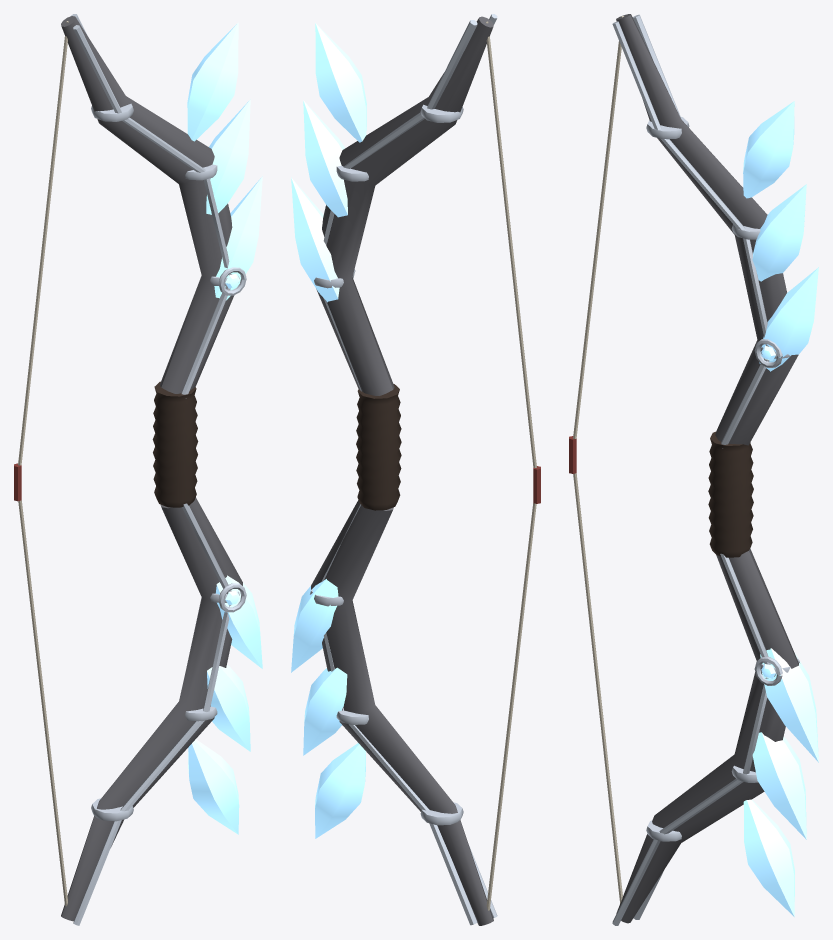
The model's file is artisan_crystal_spire_bow.glb.
The picture shows the model from 3 angles, left to right: view 1: azimuth 30°, elevation 25°; view 2: azimuth 150°, elevation 25°; view 3: azimuth 330°, elevation 25°; orthographic projection.
Visible parts, largest first — view 1: artisan_crystal_spire_bow; view 2: artisan_crystal_spire_bow; view 3: artisan_crystal_spire_bow.
Boxes of the visible parts, x1,y1,x2,y2 form: artisan_crystal_spire_bow: (14,14,262,925); artisan_crystal_spire_bow: (291,14,540,925); artisan_crystal_spire_bow: (569,14,818,925).
Bounding box in the file's own units: 0.3946 × 1.37 × 0.0647.
